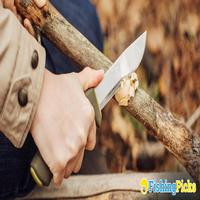knife: (28, 26, 149, 187)
